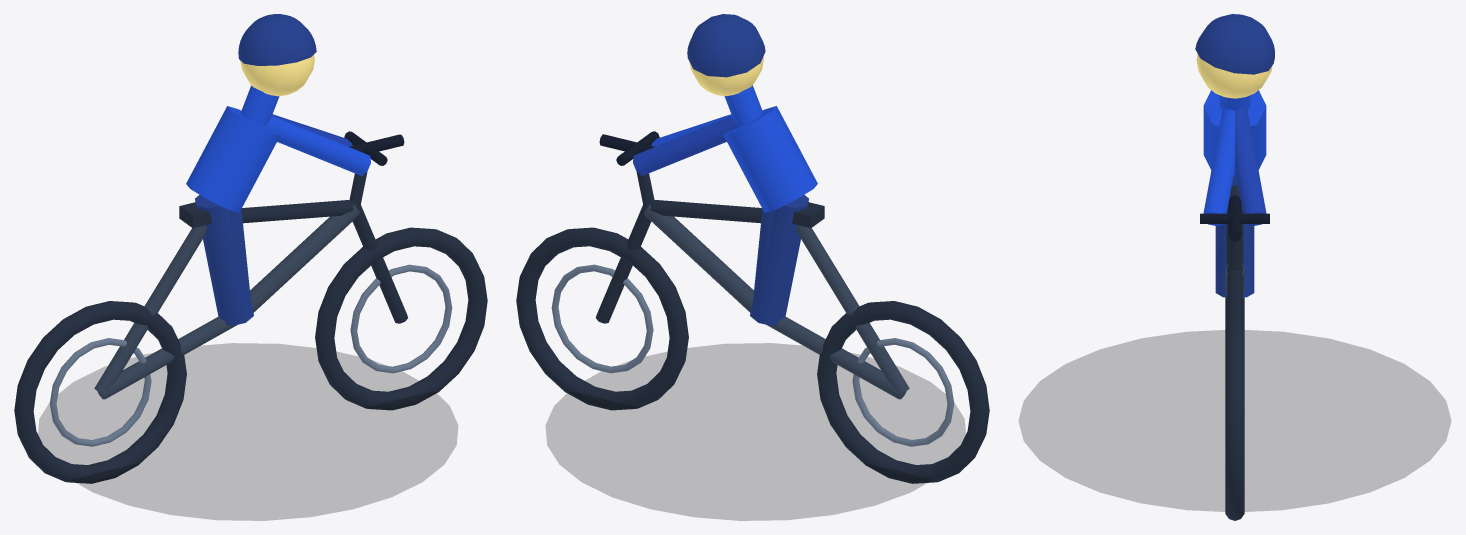
File: rider-lowpoly.glb
The picture shows the model from 3 angles, left to right: view 1: azimuth 30°, elevation 25°; view 2: azimuth 150°, elevation 25°; view 3: azimuth 270°, elevation 25°; orthographic projection. The views are drawn at different scales.
Visible parts, largest first — view 1: RiderBike; view 2: RiderBike; view 3: RiderBike.
Part boxes in pixels (x1=…): RiderBike: x1=14, y1=14, x2=487, y2=520; RiderBike: x1=516, y1=14, x2=989, y2=520; RiderBike: x1=1019, y1=14, x2=1450, y2=520.
Bounding box in the file's own units: 1.6 × 1.36 × 1.24.
